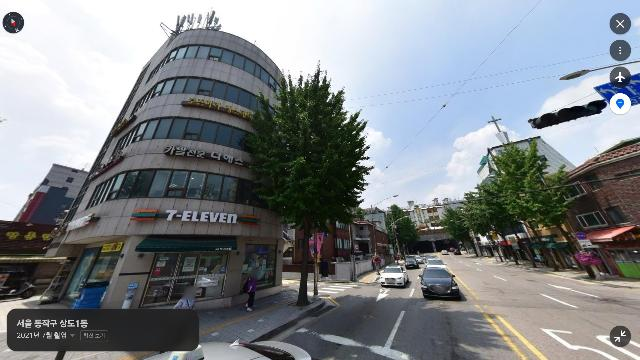other: (242, 59, 375, 308), (470, 140, 554, 269), (519, 166, 591, 277), (438, 205, 482, 260), (384, 203, 418, 264)
